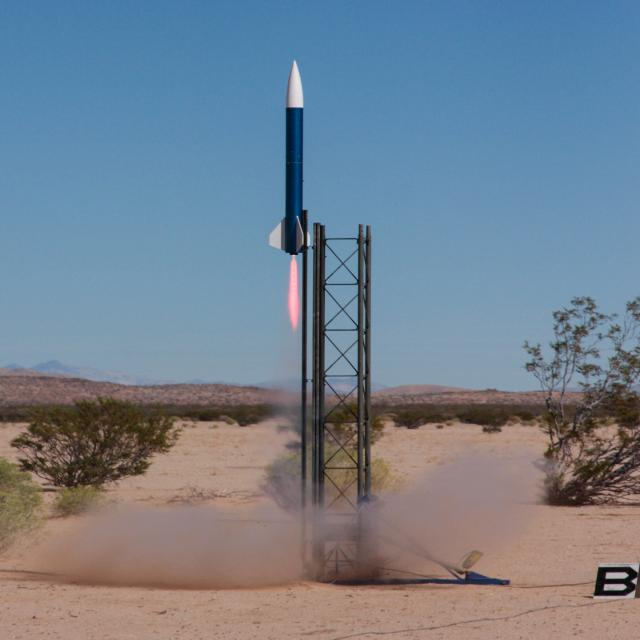Rocket: (267, 59, 311, 256)
